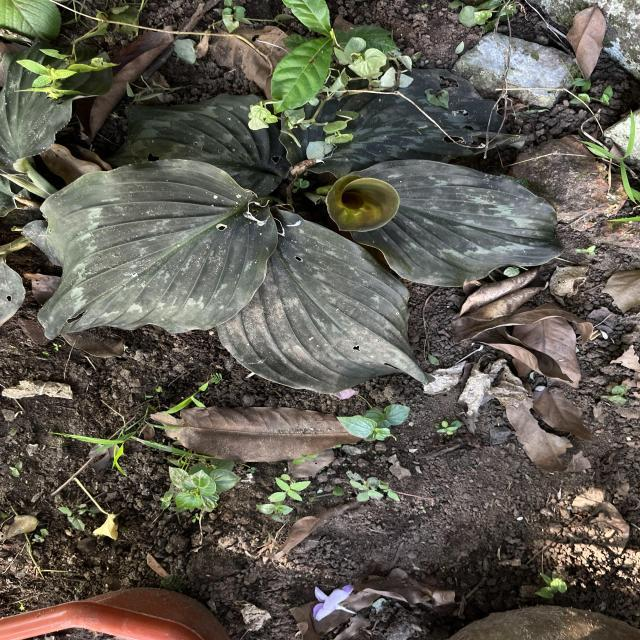Kaempferia galanga linn: (34, 156, 280, 347), (212, 205, 438, 398), (344, 158, 567, 290)
